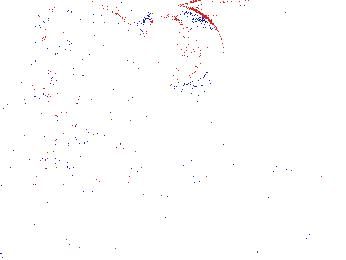moon jellyfish: (143, 4, 226, 89), (36, 4, 142, 68), (1, 20, 64, 101), (204, 46, 272, 91)
